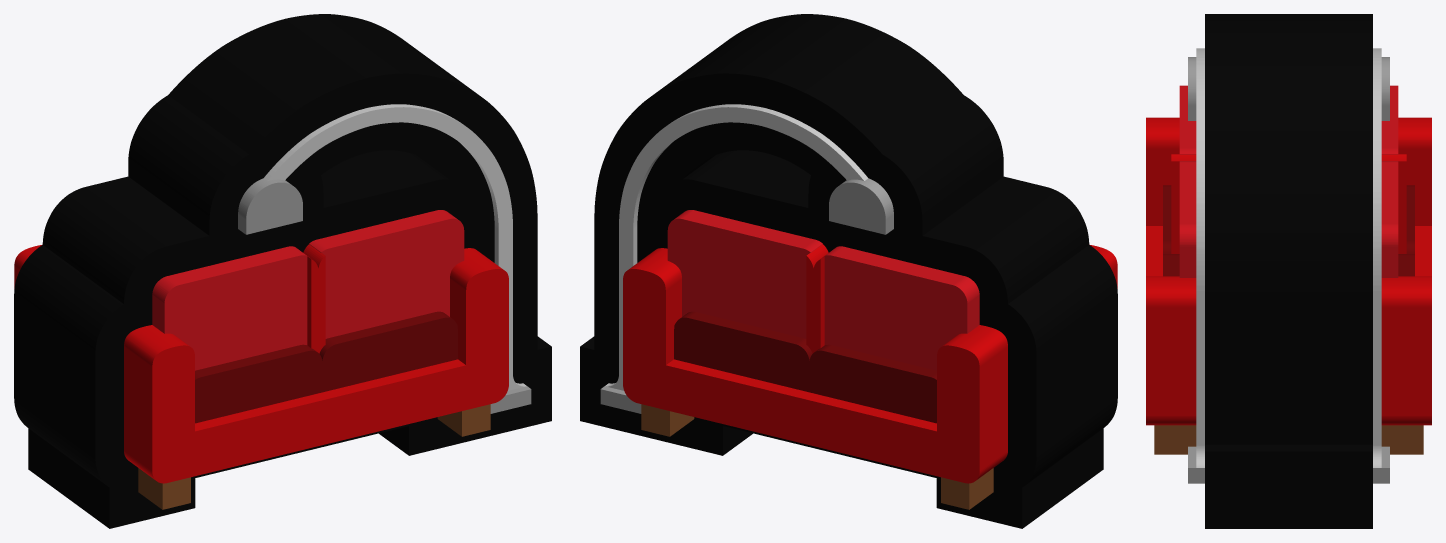
3 views of the same model, side by side, from view 1: azimuth 30°, elevation 25°; view 2: azimuth 150°, elevation 25°; view 3: azimuth 270°, elevation 25° (orthographic). The views are drawn at different scales.
Visible parts, largest first — view 1: U+1F6CB_layer00_obj00, U+1F6CB_layer07_obj00, U+1F6CB_layer03_obj00, U+1F6CB_layer05_obj00, U+1F6CB_layer01_obj00, U+1F6CB_layer02_obj00, U+1F6CB_layer06_obj00, U+1F6CB_layer04_obj00; view 2: U+1F6CB_layer00_obj00, U+1F6CB_layer07_obj00, U+1F6CB_layer03_obj00, U+1F6CB_layer05_obj00, U+1F6CB_layer01_obj00, U+1F6CB_layer02_obj00, U+1F6CB_layer06_obj00, U+1F6CB_layer04_obj00; view 3: U+1F6CB_layer00_obj00, U+1F6CB_layer07_obj00, U+1F6CB_layer01_obj00, U+1F6CB_layer03_obj00, U+1F6CB_layer06_obj00, U+1F6CB_layer02_obj00, U+1F6CB_layer04_obj00, U+1F6CB_layer05_obj00.
Boxes of the visible parts, <box> form: U+1F6CB_layer00_obj00: <box>14,14,551,528</box>; U+1F6CB_layer07_obj00: <box>14,244,508,483</box>; U+1F6CB_layer03_obj00: <box>152,210,464,370</box>; U+1F6CB_layer05_obj00: <box>195,311,457,423</box>; U+1F6CB_layer01_obj00: <box>264,104,526,390</box>; U+1F6CB_layer02_obj00: <box>238,178,531,413</box>; U+1F6CB_layer06_obj00: <box>138,404,490,509</box>; U+1F6CB_layer04_obj00: <box>303,244,325,353</box>; U+1F6CB_layer00_obj00: <box>580,14,1117,528</box>; U+1F6CB_layer07_obj00: <box>623,244,1117,483</box>; U+1F6CB_layer03_obj00: <box>667,210,979,370</box>; U+1F6CB_layer05_obj00: <box>674,311,936,423</box>; U+1F6CB_layer01_obj00: <box>605,104,867,390</box>; U+1F6CB_layer02_obj00: <box>600,178,893,413</box>; U+1F6CB_layer06_obj00: <box>641,404,993,509</box>; U+1F6CB_layer04_obj00: <box>806,244,828,353</box>; U+1F6CB_layer00_obj00: <box>1205,14,1372,528</box>; U+1F6CB_layer07_obj00: <box>1146,117,1431,425</box>; U+1F6CB_layer01_obj00: <box>1196,48,1381,467</box>; U+1F6CB_layer03_obj00: <box>1179,85,1398,277</box>; U+1F6CB_layer06_obj00: <box>1154,425,1423,454</box>; U+1F6CB_layer02_obj00: <box>1188,57,1389,483</box>; U+1F6CB_layer04_obj00: <box>1171,154,1406,253</box>; U+1F6CB_layer05_obj00: <box>1163,185,1414,276</box>.
Size of the model in its own units: 0.6491 by 0.5274 by 0.34.
